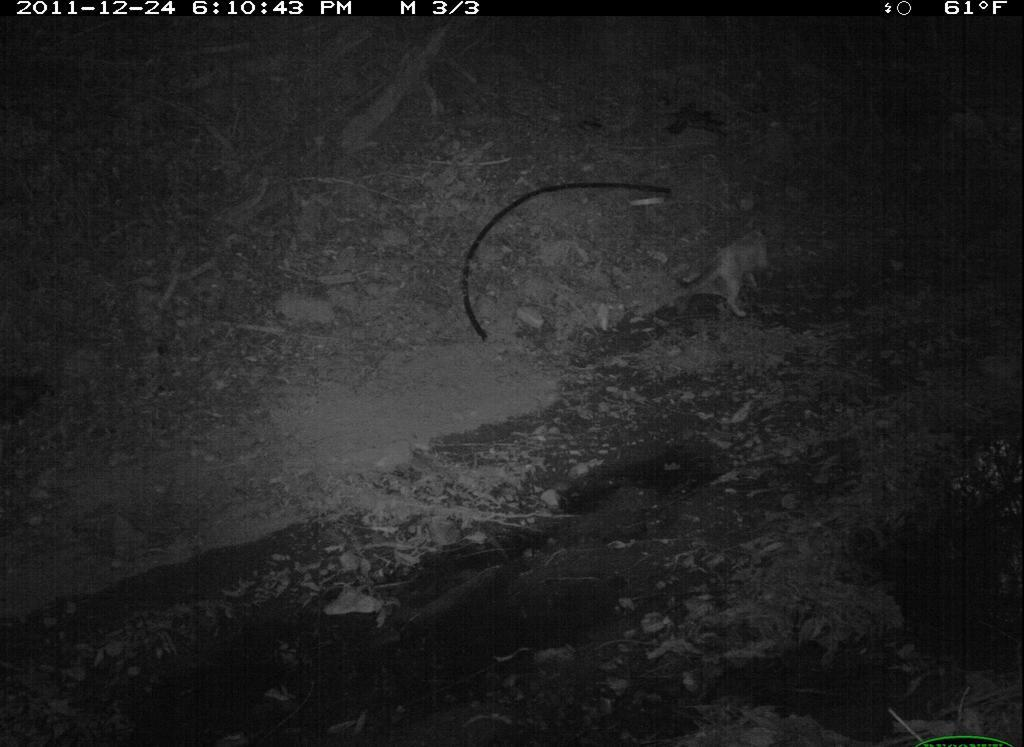cat: (661, 218, 783, 323)
